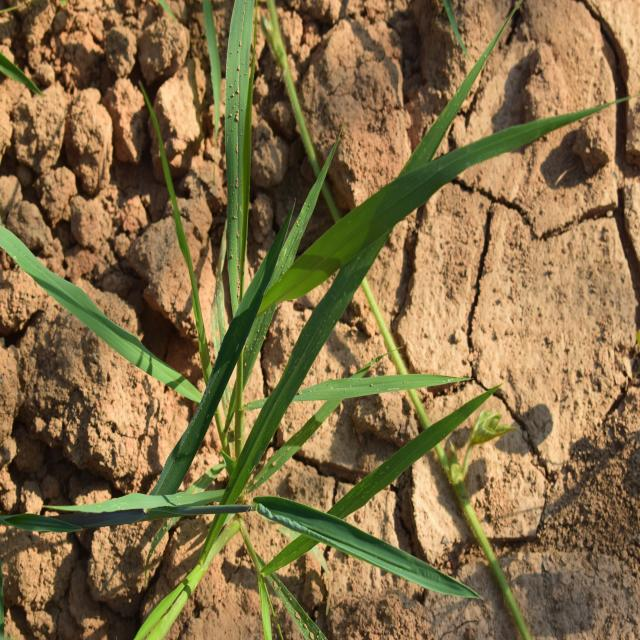green_foxtail: (177, 22, 432, 552)
